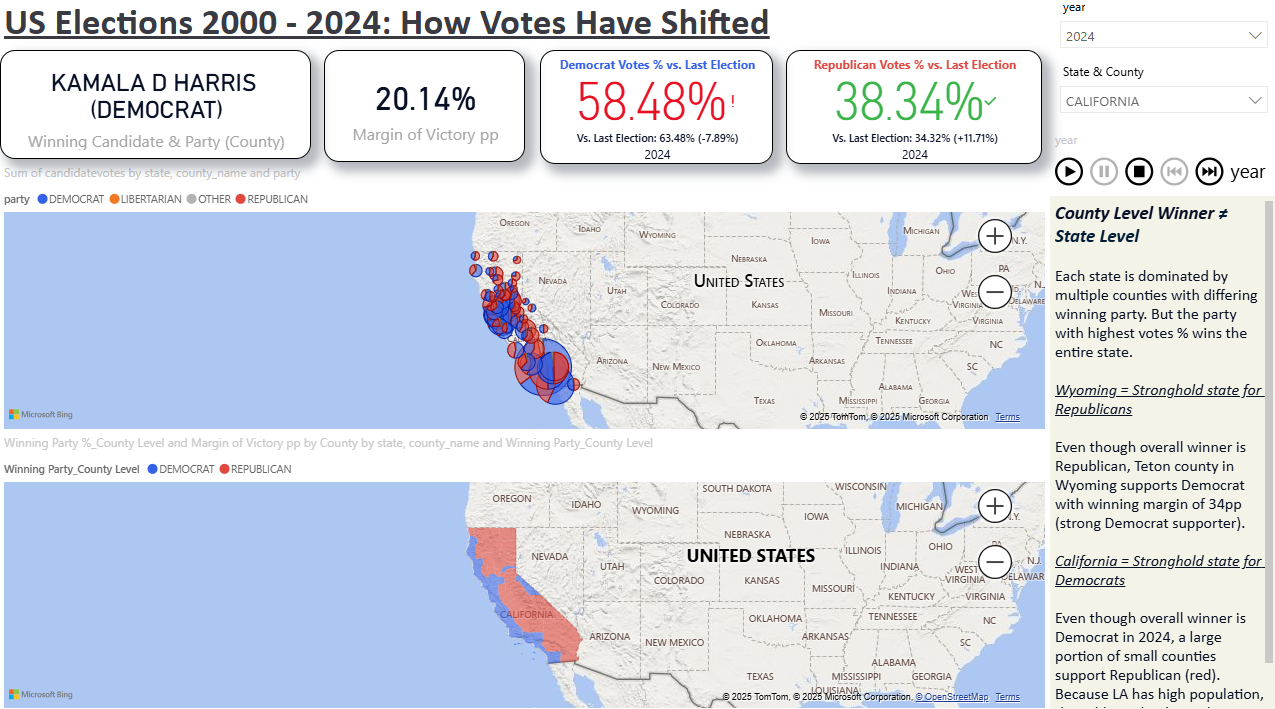

Layout of this report page (visuals, bound fields, positions):
{"tool":"powerbi","page":{"name":"County Level","canvas":[1280,720],"ordinal":3},"visuals":[{"type":"map","fields":{"Category":["countypres_2000-2024.state","countypres_2000-2024.county_name"],"Size":["countypres_2000-2024.candidatevotes"],"Series":["countypres_2000-2024.party"]},"box":[0,170.6,1051.5,270.6],"z":0},{"type":"filledMap","fields":{"Category":["countypres_2000-2024.state","countypres_2000-2024.county_name"],"Series":["countypres_2000-2024.Winning Party"]},"box":[0,441.2,1051.5,279.4],"z":1000},{"type":"PBI_CV_16948668_E17D_454B_8664_2F2C470EA8C1","fields":{"category":["countypres_2000-2024.year"]},"box":[1051.5,138.2,227.9,64.7],"z":2000},{"type":"textbox","box":[0,0,1050,64.7],"z":3000},{"type":"slicer","fields":{"Values":["countypres_2000-2024.year"]},"box":[1051.5,0,227.9,73.5],"z":4000},{"type":"slicer","fields":{"Values":["countypres_2000-2024.state","countypres_2000-2024.county_name"]},"box":[1051.5,64.7,227.9,73.5],"z":5000},{"type":"card","fields":{"Values":["countypres_2000-2024.Winning Candidate & Party (County)"]},"box":[1.5,57.4,310.3,108.8],"z":6000},{"type":"card","fields":{"Values":["countypres_2000-2024.Margin of Victory %"]},"box":[325,57.4,201.5,111.8],"z":7000},{"type":"kpi","title":"Democrat Votes % vs. Last Election","fields":{"TrendLine":["countypres_2000-2024.year"],"Indicator":["countypres_2000-2024.Votes % (County)"],"Goal":["countypres_2000-2024.Votes % Last Election (County)"]},"box":[541.2,57.4,232.4,113.2],"z":8000},{"type":"kpi","title":"Republican Votes % vs. Last Election","fields":{"TrendLine":["countypres_2000-2024.year"],"Goal":["countypres_2000-2024.Votes % Last Election (County)"],"Indicator":["countypres_2000-2024.Votes % (County)"]},"box":[786.8,57.4,255.9,113.2],"z":9000},{"type":"textbox","box":[1051.5,202.9,227.9,517.6],"z":10000}]}

Visuals, with their boxes in screenshot pixels (x1, y1, x2, y2), scaled from the page's 1280x720 canvas onto the 1275x709 screenshot:
map - countypres_2000-2024.state x countypres_2000-2024.county_name: bbox=(0, 168, 1047, 434)
filledMap - countypres_2000-2024.state x countypres_2000-2024.county_name: bbox=(0, 434, 1047, 708)
PBI_CV_16948668_E17D_454B_8664_2F2C470EA8C1 - countypres_2000-2024.year: bbox=(1047, 136, 1274, 200)
textbox: bbox=(0, 0, 1046, 64)
slicer - countypres_2000-2024.year: bbox=(1047, 0, 1274, 72)
slicer - countypres_2000-2024.state x countypres_2000-2024.county_name: bbox=(1047, 64, 1274, 136)
card - countypres_2000-2024.Winning Candidate & Party (County): bbox=(1, 57, 311, 164)
card - countypres_2000-2024.Margin of Victory %: bbox=(324, 57, 524, 167)
"Democrat Votes % vs. Last Election" kpi: bbox=(539, 57, 771, 168)
"Republican Votes % vs. Last Election" kpi: bbox=(784, 57, 1039, 168)
textbox: bbox=(1047, 200, 1274, 708)
